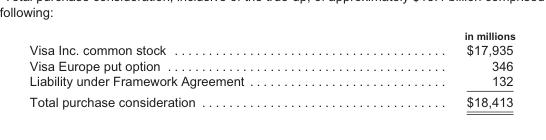table: (28, 29, 514, 108)
table column: (28, 29, 353, 108), (353, 29, 514, 108)
table column header: (28, 29, 514, 41)
table row: (28, 73, 514, 91), (28, 91, 514, 108), (28, 41, 514, 57), (28, 57, 514, 73), (28, 29, 514, 41)
